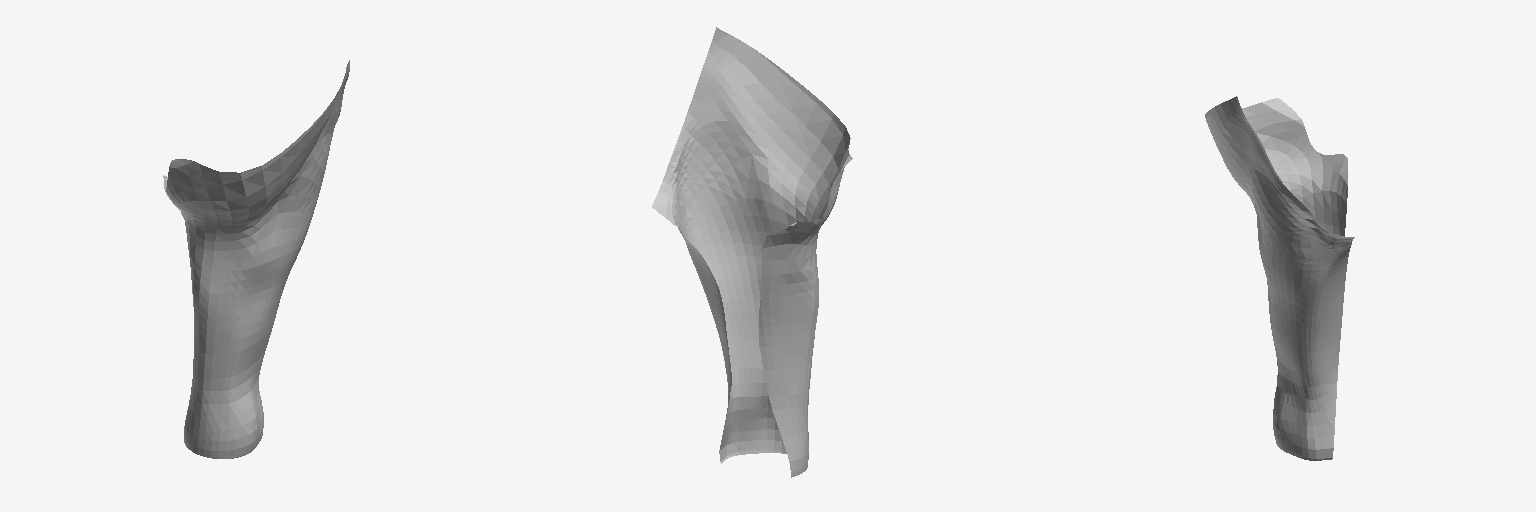
The model's file is cavalier_leg_front_right_middle.obj.
3 renders of one model, left to right at view 1: azimuth 30°, elevation 25°; view 2: azimuth 150°, elevation 25°; view 3: azimuth 270°, elevation 25°, orthographic.
Visible parts, largest first — view 1: 15548_French_Horseman_v1.003; view 2: 15548_French_Horseman_v1.003; view 3: 15548_French_Horseman_v1.003.
Boxes of the visible parts, <box> form: 15548_French_Horseman_v1.003: <box>163,60,349,458</box>; 15548_French_Horseman_v1.003: <box>652,27,852,477</box>; 15548_French_Horseman_v1.003: <box>1205,96,1354,460</box>.
Size of the model in its own units: 1.39 by 3.09 by 1.07.